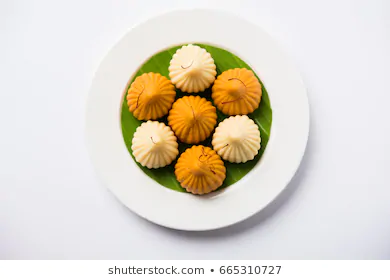modak: (124, 116, 182, 167), (213, 112, 273, 161), (180, 146, 238, 194), (172, 46, 220, 95), (166, 97, 216, 143), (214, 70, 266, 112), (131, 76, 175, 114)
